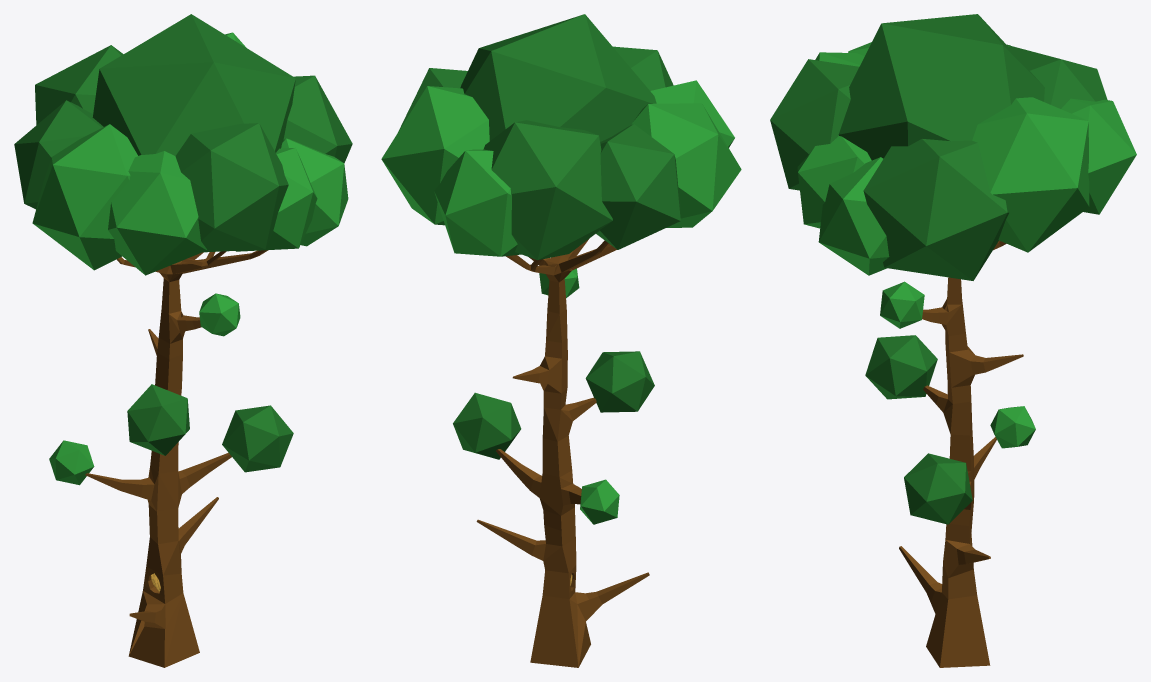
File: treemain.fbx
3 views of the same model, side by side, from view 1: azimuth 30°, elevation 25°; view 2: azimuth 150°, elevation 25°; view 3: azimuth 270°, elevation 25° (orthographic). The views are drawn at different scales.
Visible parts, largest first — view 1: Icosphere, Cube, Icosphere.001, Icosphere.009, Icosphere.010, Icosphere.008, Icosphere.004, Icosphere.014, Icosphere.012, Icosphere.003, Icosphere.002, Icosphere.007 (+2 smaller); view 2: Cube, Icosphere, Icosphere.007, Icosphere.005, Icosphere.008, Icosphere.009, Icosphere.006, Icosphere.012, Icosphere.014, Icosphere.010, Icosphere.001, Icosphere.013 (+1 smaller); view 3: Icosphere, Icosphere.004, Cube, Icosphere.005, Icosphere.001, Icosphere.003, Icosphere.006, Icosphere.014, Icosphere.012, Icosphere.002, Icosphere.007, Icosphere.011 (+1 smaller).
Part boxes in pixels (x1,y1,x2,y2): Icosphere: (92,14,295,155); Cube: (85,250,268,667); Icosphere.001: (175,123,288,252); Icosphere.009: (32,124,137,270); Icosphere.010: (108,151,206,275); Icosphere.008: (14,100,103,209); Icosphere.004: (283,75,352,163); Icosphere.014: (222,405,293,472); Icosphere.012: (127,384,189,455); Icosphere.003: (281,138,348,246); Icosphere.002: (236,148,317,251); Icosphere.007: (35,45,123,124); Cube: (476,238,649,667); Icosphere: (460,14,656,141); Icosphere.007: (483,120,612,260); Icosphere.005: (381,86,489,225); Icosphere.008: (596,124,680,249); Icosphere.009: (632,103,741,227); Icosphere.006: (434,149,521,256); Icosphere.012: (585,351,654,412); Icosphere.014: (453,392,521,459); Icosphere.010: (650,80,734,147); Icosphere.001: (613,46,673,90); Icosphere.013: (580,479,619,524); Icosphere: (838,14,1044,160); Icosphere.004: (863,139,1009,280); Cube: (899,240,1023,667); Icosphere.005: (972,97,1089,252); Icosphere.001: (770,59,858,190); Icosphere.003: (818,157,889,275); Icosphere.006: (1061,98,1136,214); Icosphere.014: (904,453,972,524); Icosphere.012: (865,335,937,399); Icosphere.002: (797,136,871,228); Icosphere.007: (1009,45,1107,108); Icosphere.011: (880,281,924,328).
Size of the model in its own units: 4233 by 7919 by 4109.
